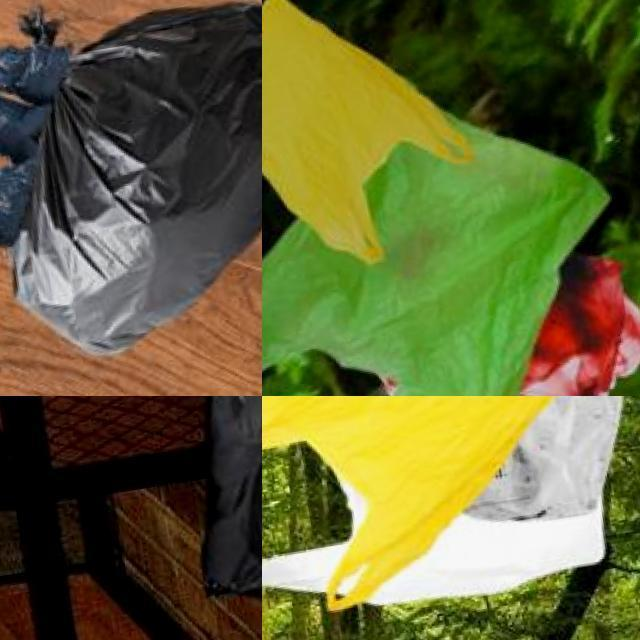waste: (262, 92, 640, 396), (0, 0, 262, 369), (262, 396, 640, 631), (262, 0, 496, 272), (166, 396, 262, 635), (0, 27, 80, 113)
